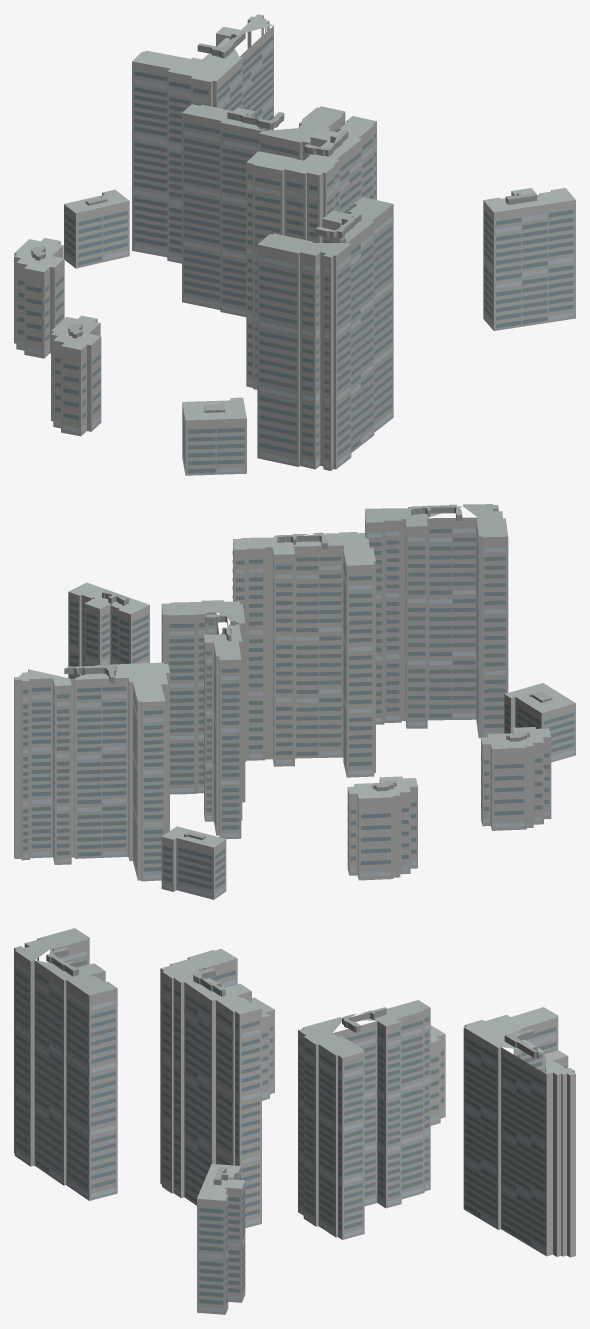
File: apt-a10027632.glb
The picture shows the model from 3 angles, top to bottom: view 1: azimuth 30°, elevation 25°; view 2: azimuth 150°, elevation 25°; view 3: azimuth 270°, elevation 25°; orthographic projection. The views are drawn at different scales.
Parts seen in each view (by area): view 1: apt-a10027632; view 2: apt-a10027632; view 3: apt-a10027632.
Boxes of the visible parts, x1=… form: apt-a10027632: x1=14, y1=14, x2=575, y2=475; apt-a10027632: x1=14, y1=504, x2=575, y2=899; apt-a10027632: x1=14, y1=928, x2=575, y2=1314.
Bounding box in the file's own units: 205 × 89 × 205.
